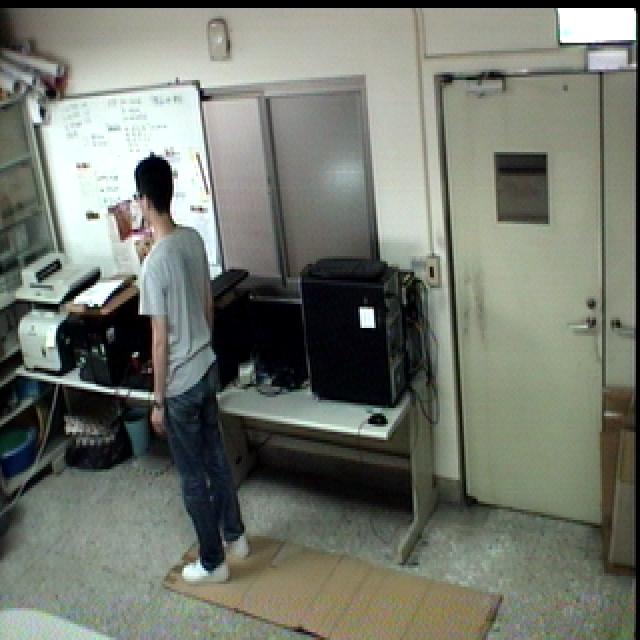stand: (122, 143, 253, 588)
